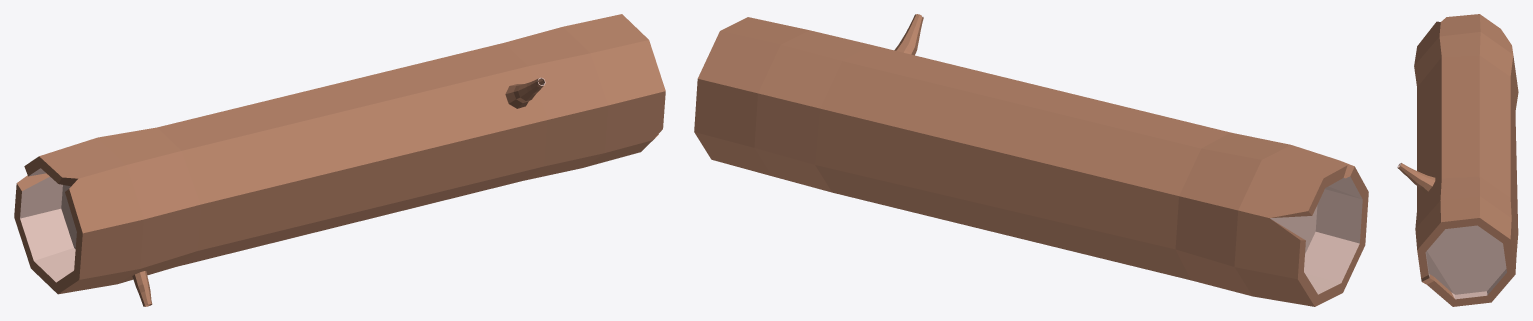
Rendered from Kutuk.fbx.
3 views of the same model, side by side, from view 1: azimuth 30°, elevation 25°; view 2: azimuth 150°, elevation 25°; view 3: azimuth 270°, elevation 25° (orthographic). The views are drawn at different scales.
Parts seen in each view (by area): view 1: Straight Log.001; view 2: Straight Log.001; view 3: Straight Log.001.
Boxes of the visible parts, x1,y1,x2,y2 form: Straight Log.001: [14, 14, 665, 306]; Straight Log.001: [694, 14, 1368, 306]; Straight Log.001: [1397, 14, 1518, 306].
Size of the model in its own units: 790 by 192 by 198.
